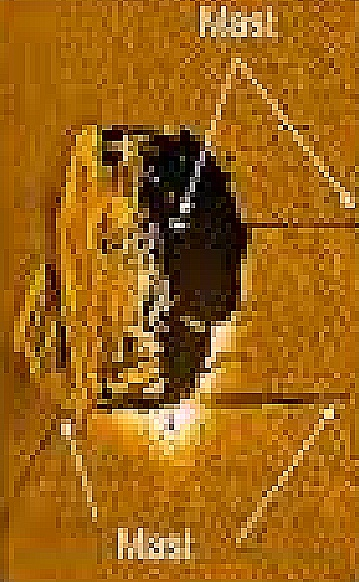ship: (12, 121, 173, 419)
